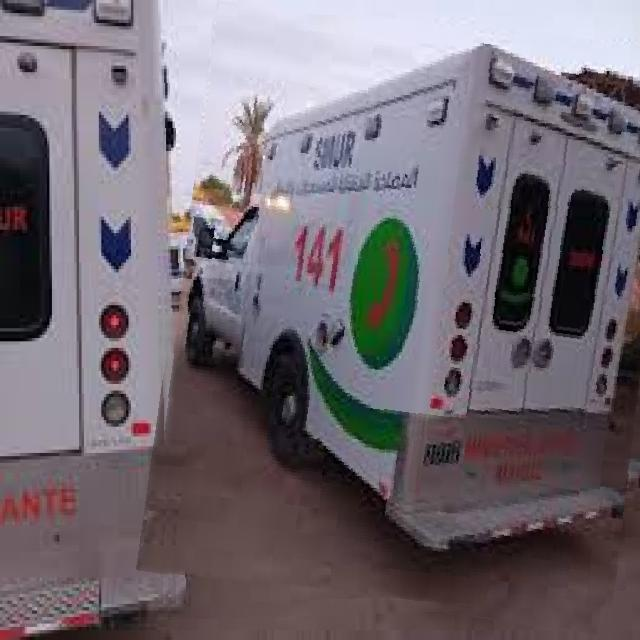ambulance: (155, 15, 640, 620)
